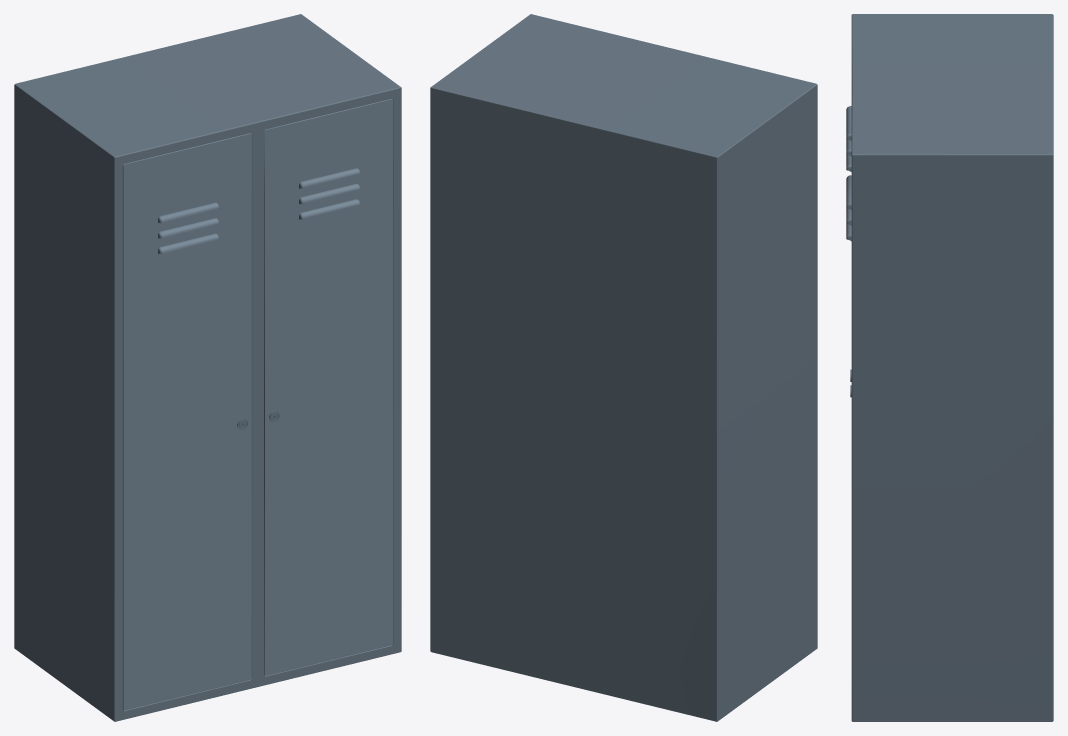
The model's file is SM_Locker_Open_V4.fbx.
The picture shows the model from 3 angles, left to right: view 1: azimuth 30°, elevation 25°; view 2: azimuth 150°, elevation 25°; view 3: azimuth 270°, elevation 25°; orthographic projection.
Parts seen in each view (by area): view 1: SM_Locker_Open_V4, SM_Locker_Door_L_V4, SM_Locker_Door_R_V4; view 2: SM_Locker_Open_V4; view 3: SM_Locker_Open_V4, SM_Locker_Door_R_V4, SM_Locker_Door_L_V4.
Part boxes in pixels (box(x1,y1,x2,y2)): SM_Locker_Open_V4: box(14, 14, 401, 721); SM_Locker_Door_L_V4: box(123, 133, 251, 710); SM_Locker_Door_R_V4: box(264, 98, 392, 675); SM_Locker_Open_V4: box(430, 14, 817, 721); SM_Locker_Open_V4: box(851, 14, 1053, 721); SM_Locker_Door_R_V4: box(846, 175, 851, 397); SM_Locker_Door_L_V4: box(846, 106, 851, 381).
Size of the model in its own units: 115 by 215 by 71.27.
